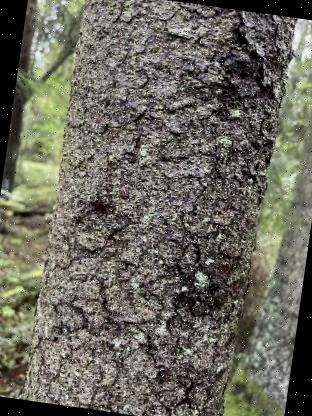tree: (14, 0, 304, 416)
